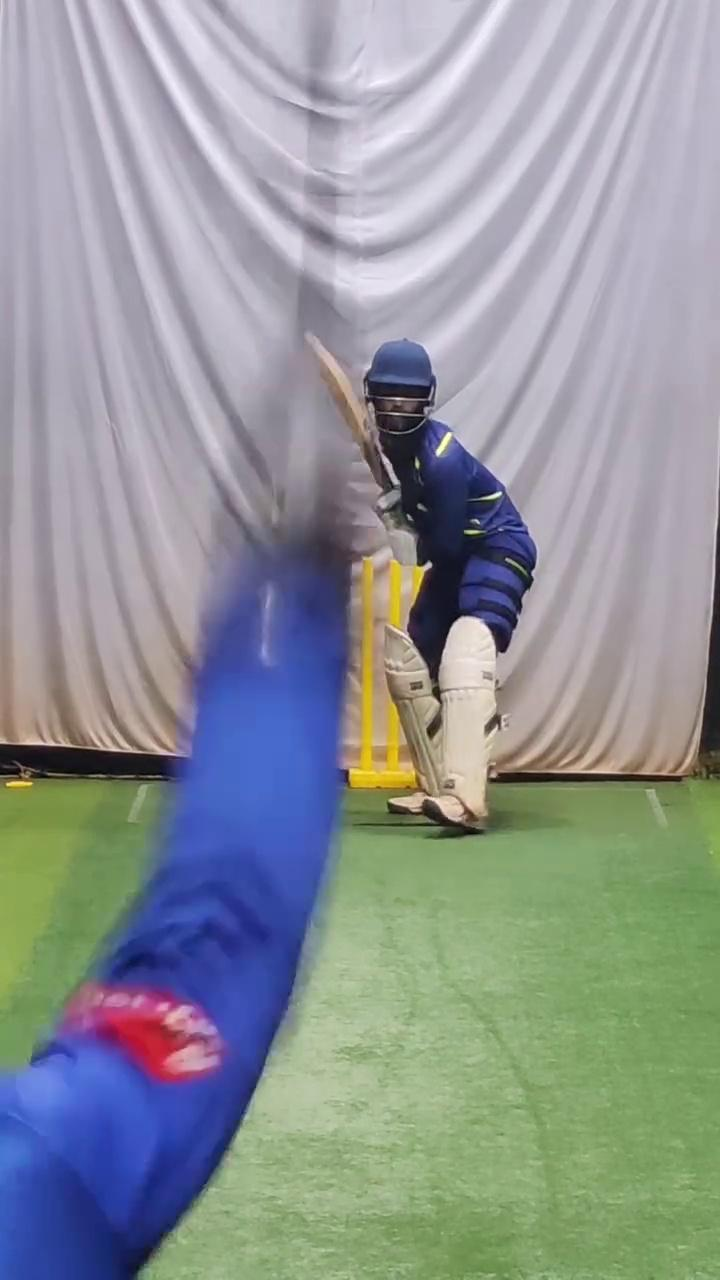bat: (298, 319, 392, 498)
